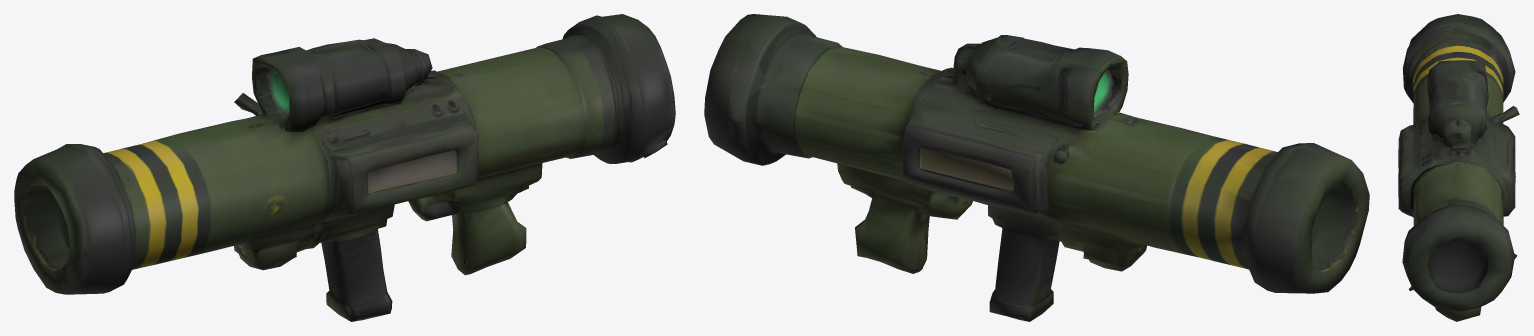
The model's file is Meshy_AI_Rocket_Launcher_Model_1216093539_texture.fbx.
The picture shows the model from 3 angles, left to right: view 1: azimuth 30°, elevation 25°; view 2: azimuth 150°, elevation 25°; view 3: azimuth 270°, elevation 25°; orthographic projection. The views are drawn at different scales.
Parts seen in each view (by area): view 1: Mesh_0; view 2: Mesh_0; view 3: Mesh_0.
Part boxes in pixels (x1,y1,x2,y2): Mesh_0: [14, 14, 675, 321]; Mesh_0: [704, 14, 1369, 321]; Mesh_0: [1398, 14, 1519, 321].
Bounding box in the file's own units: 201 × 86.44 × 49.17.
1 material, 1 textured.
